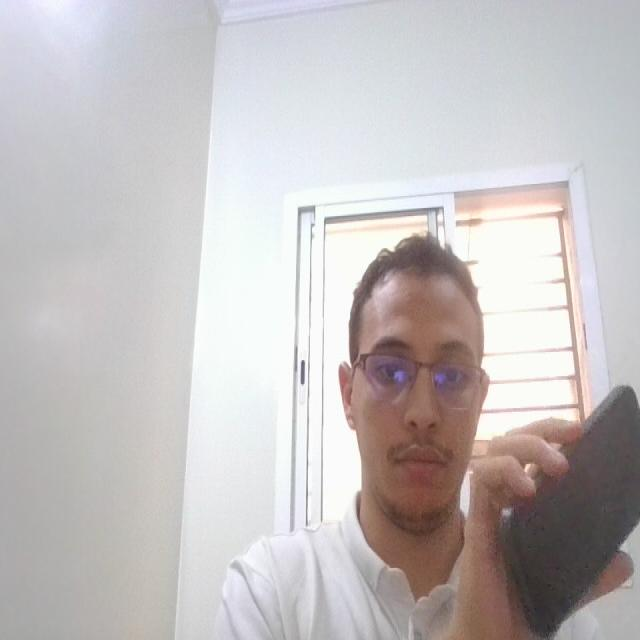phone: (494, 376, 640, 640)
